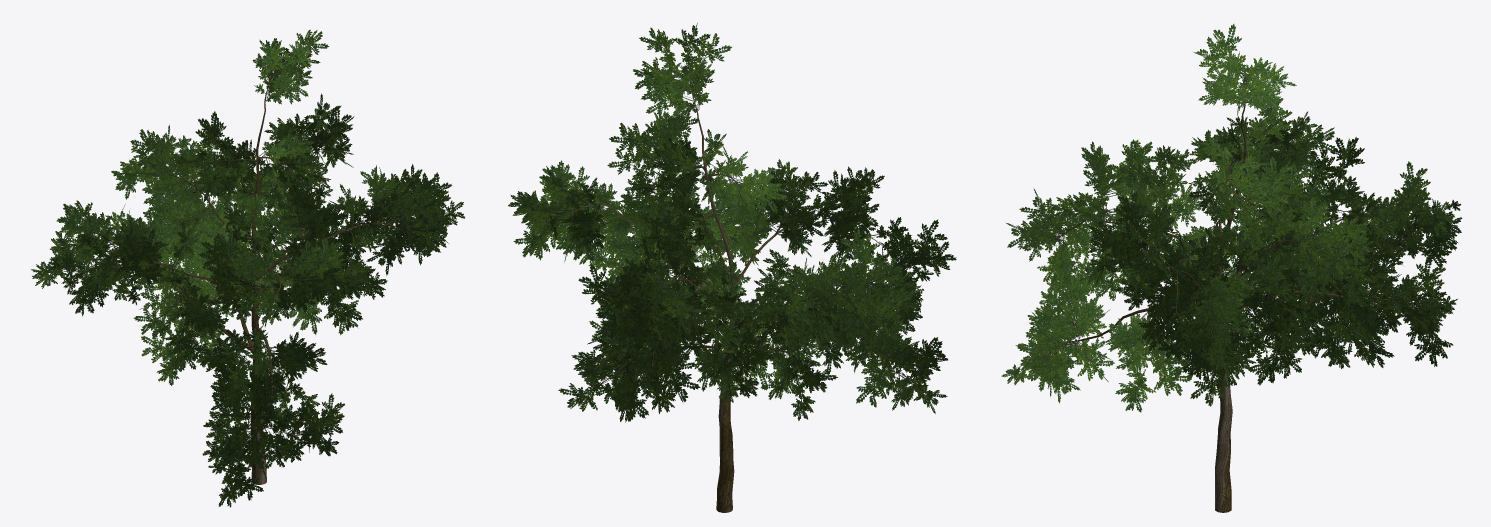
Rendered from garden-ash.glb.
The picture shows the model from 3 angles, left to right: view 1: azimuth 30°, elevation 25°; view 2: azimuth 150°, elevation 25°; view 3: azimuth 270°, elevation 25°; orthographic projection. The views are drawn at different scales.
Visible parts, largest first — view 1: Canopy, Branches; view 2: Canopy, Branches; view 3: Canopy, Branches.
Part boxes in pixels (left/top/right/bottom): Canopy: left=31, top=29, right=464, bottom=507; Branches: left=65, top=69, right=412, bottom=484; Canopy: left=508, top=23, right=956, bottom=422; Branches: left=559, top=72, right=907, bottom=512; Canopy: left=1001, top=24, right=1462, bottom=412; Branches: left=1037, top=76, right=1436, bottom=512.
Size of the model in its own units: 9.21 by 10 by 8.71.
Materials: 2 (2 with a texture image).
